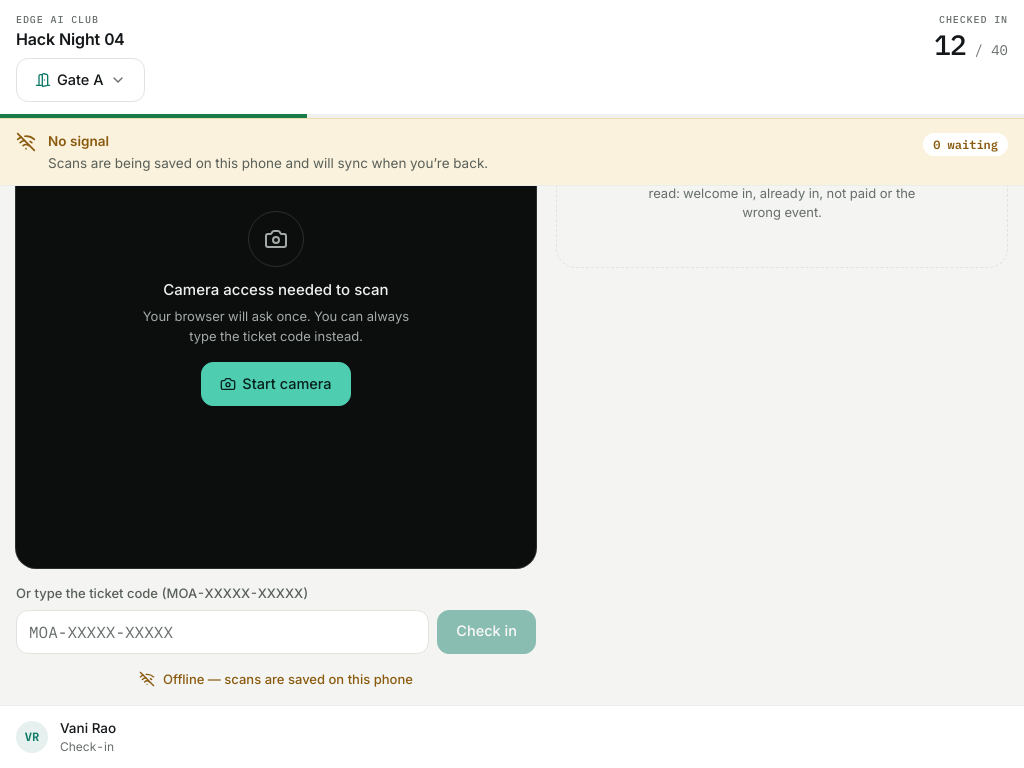
it: scanning without signal › saves the scan on the phone and says so, never as a server admission
(page scrolled)
Expected: the text "No signal" is shown, [48,133,109,149]
Type "MOA-1" into the field labelled "Or type the ticket code (MOA-XXXXX-XXXXX)" at point(223, 632), box [16,610,429,654]
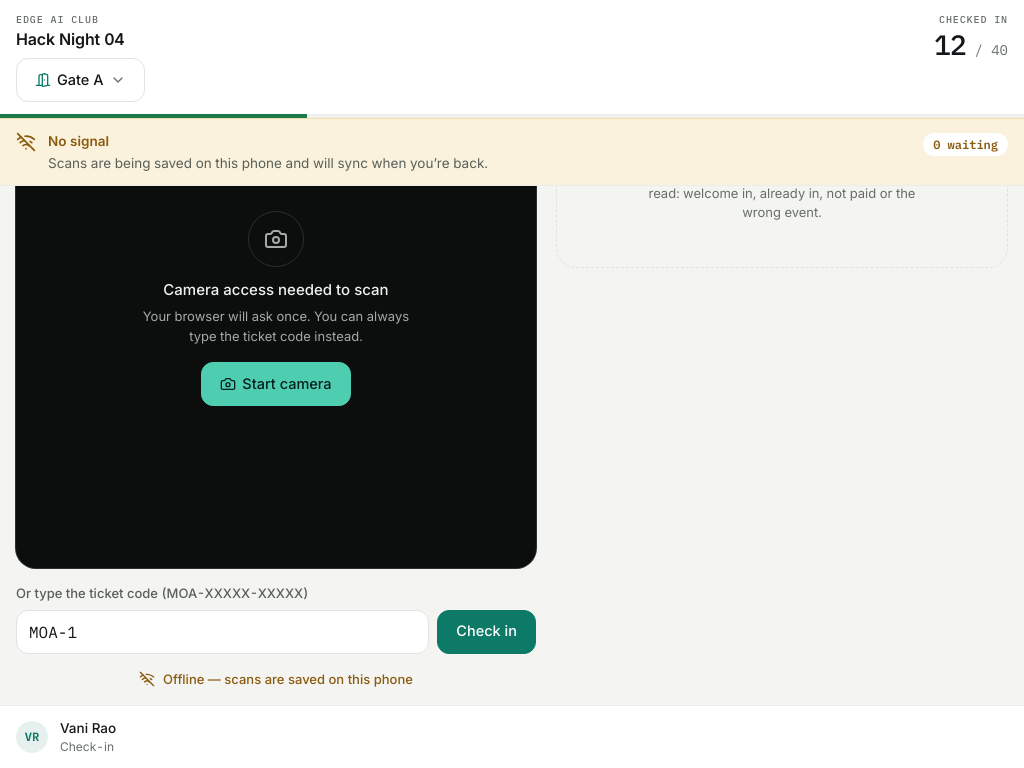
Click the button "Check in" at point(487, 632), box [437,610,536,654]
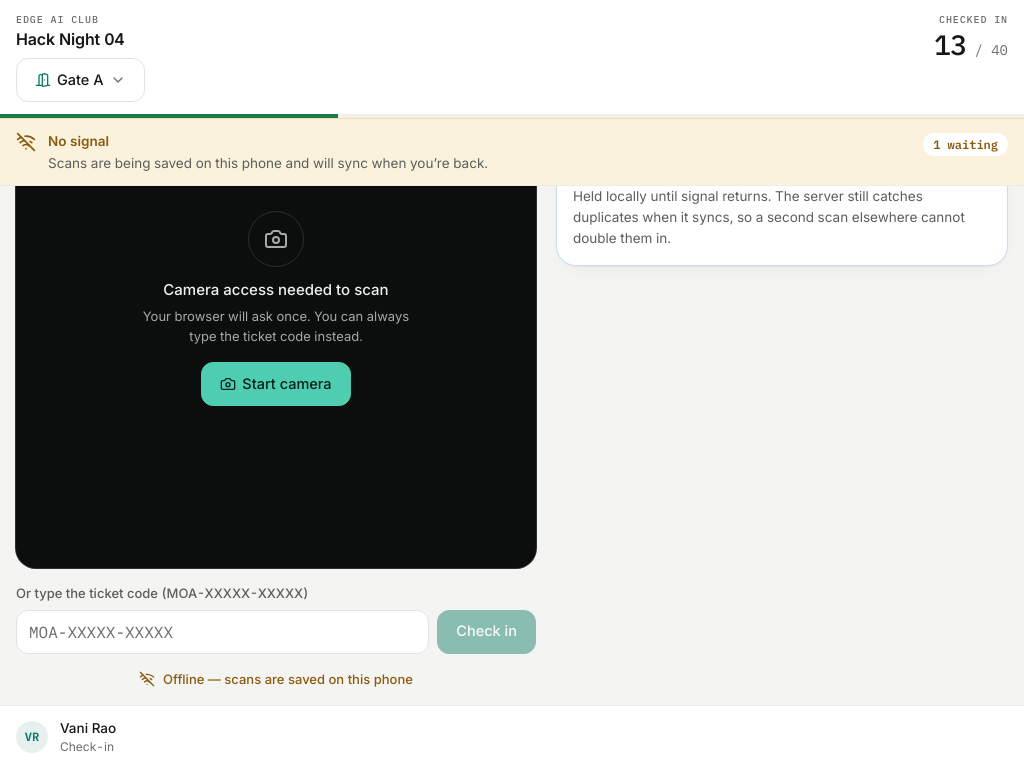
Expected: the text "1 waiting" is shown, [923,133,1008,156]
